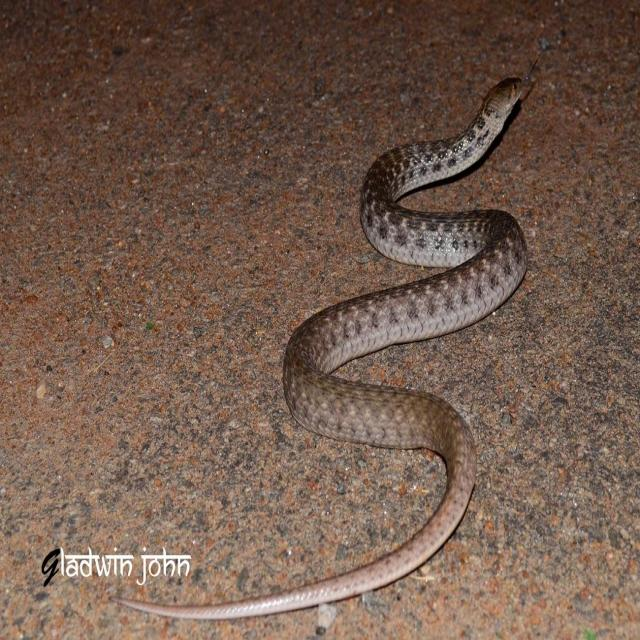Snake: (108, 49, 542, 620)
